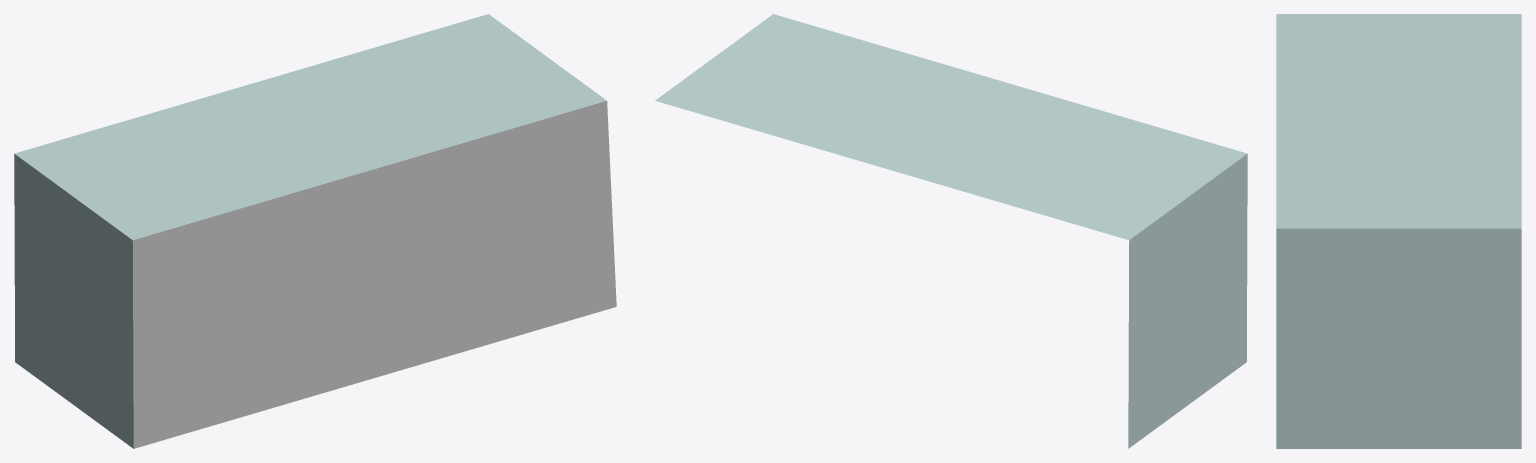
3 views of the same model, side by side, from view 1: azimuth 30°, elevation 25°; view 2: azimuth 150°, elevation 25°; view 3: azimuth 270°, elevation 25° (orthographic). The views are drawn at different scales.
Parts seen in each view (by area): view 1: 0_3_2_1_2_0_3_1_1; view 2: 0_3_2_1_2_0_3_1_1; view 3: 0_3_2_1_2_0_3_1_1.
Part boxes in pixels (box(x1,y1,x2,y2)): 0_3_2_1_2_0_3_1_1: box(14, 14, 616, 448); 0_3_2_1_2_0_3_1_1: box(655, 14, 1247, 448); 0_3_2_1_2_0_3_1_1: box(1276, 14, 1521, 448).
Bounding box in the file's own units: 7.07 × 3.25 × 3.
